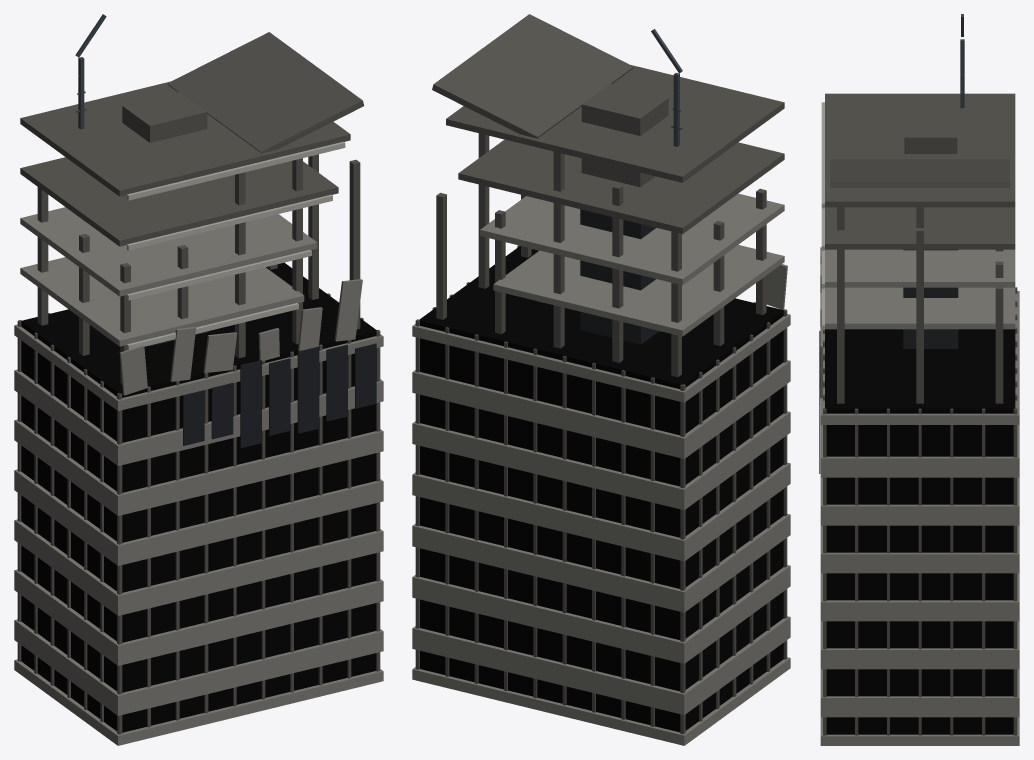
File: env_city_ruined.fbx
3 renders of one model, left to right at view 1: azimuth 30°, elevation 25°; view 2: azimuth 150°, elevation 25°; view 3: azimuth 270°, elevation 25°, orthographic. The views are drawn at different scales.
Parts seen in each view (by area): view 1: env_city_ruined; view 2: env_city_ruined; view 3: env_city_ruined.
Boxes of the visible parts, x1,y1,x2,y2 form: env_city_ruined: (14,14,383,745); env_city_ruined: (412,14,790,745); env_city_ruined: (819,14,1019,745).
Bounding box in the file's own units: 5560 × 13264 × 3785.
